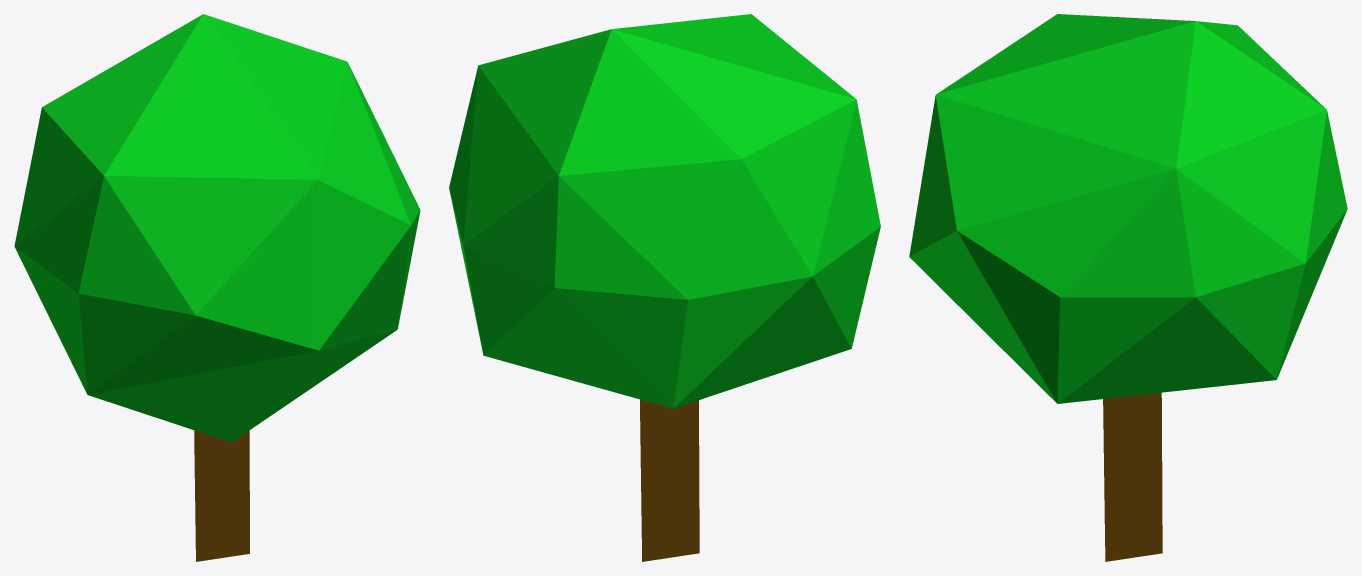
Rendered from ak_tree01.fbx.
The picture shows the model from 3 angles, left to right: view 1: azimuth 30°, elevation 25°; view 2: azimuth 150°, elevation 25°; view 3: azimuth 270°, elevation 25°; orthographic projection. The views are drawn at different scales.
Visible parts, largest first — view 1: Tree; view 2: Tree; view 3: Tree.
Boxes of the visible parts, <box> form: Tree: <box>14,14,420,561</box>; Tree: <box>449,14,880,561</box>; Tree: <box>909,14,1347,561</box>.
Size of the model in its own units: 108 by 153 by 113.
